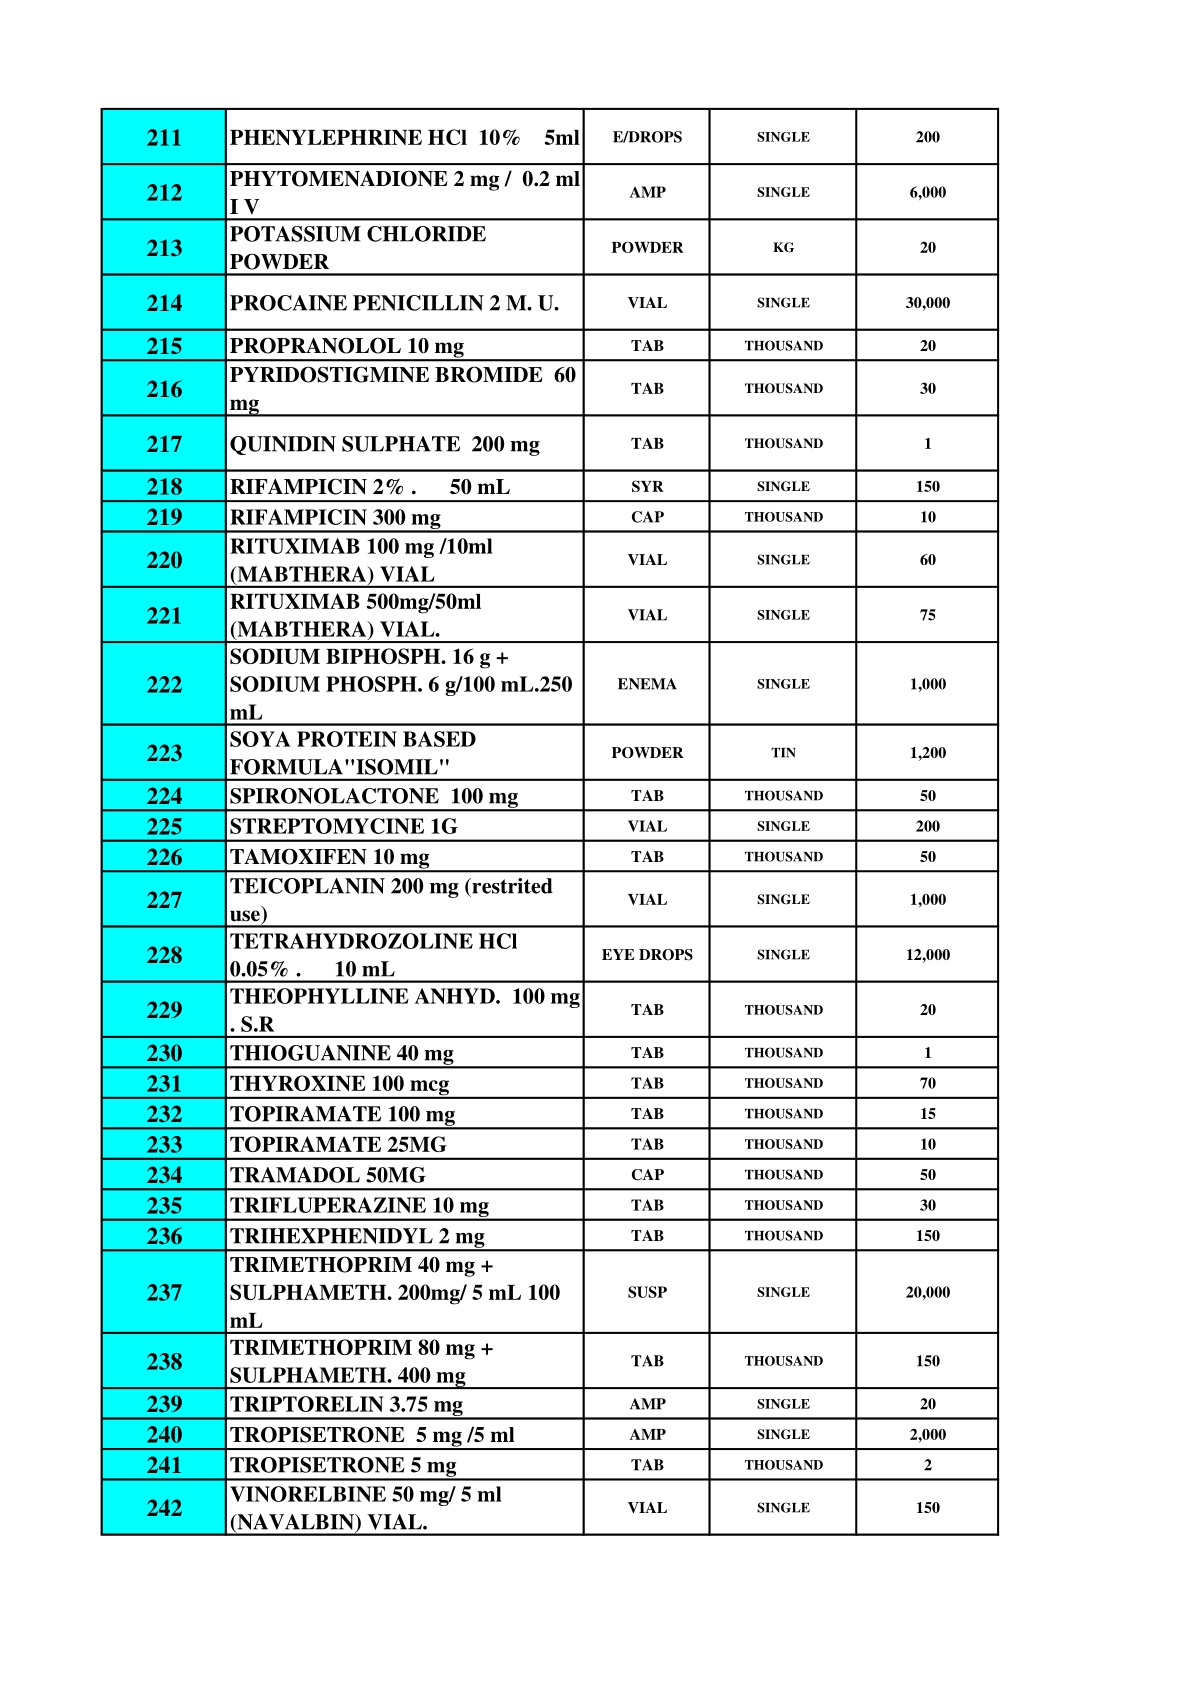full_lined: (85, 108, 1011, 1545)
